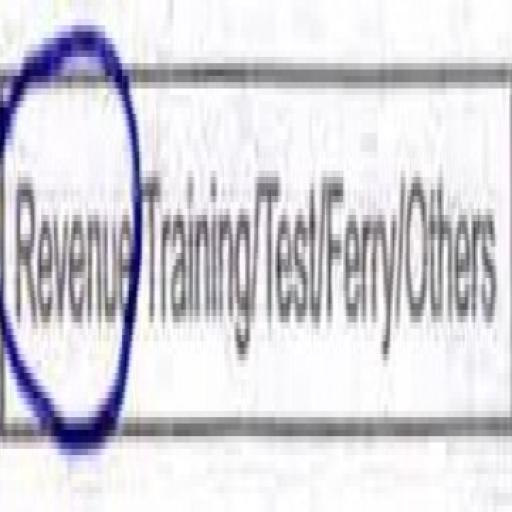check: (0, 2, 142, 508)
